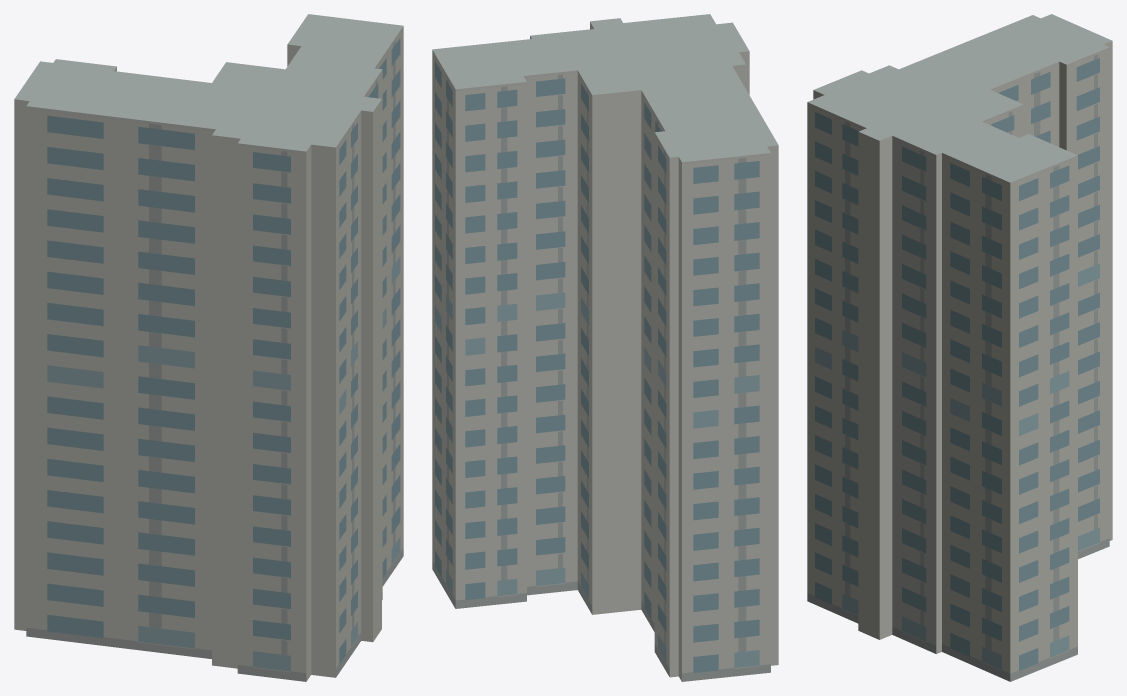
The model's file is residential-7c5d6e87-1e81-4a5f-8549-efe175101a50.glb.
3 views of the same model, side by side, from view 1: azimuth 30°, elevation 25°; view 2: azimuth 150°, elevation 25°; view 3: azimuth 270°, elevation 25° (orthographic). The views are drawn at different scales.
Parts seen in each view (by area): view 1: residential-7c5d6e87-1e81-4a5f-8549-efe175101a50.tmp; view 2: residential-7c5d6e87-1e81-4a5f-8549-efe175101a50.tmp; view 3: residential-7c5d6e87-1e81-4a5f-8549-efe175101a50.tmp.
Part boxes in pixels (x1=…): residential-7c5d6e87-1e81-4a5f-8549-efe175101a50.tmp: x1=14, y1=14, x2=403, y2=681; residential-7c5d6e87-1e81-4a5f-8549-efe175101a50.tmp: x1=432, y1=14, x2=778, y2=681; residential-7c5d6e87-1e81-4a5f-8549-efe175101a50.tmp: x1=807, y1=14, x2=1112, y2=681.
Bounding box in the file's own units: 39.17 × 54 × 29.95.
